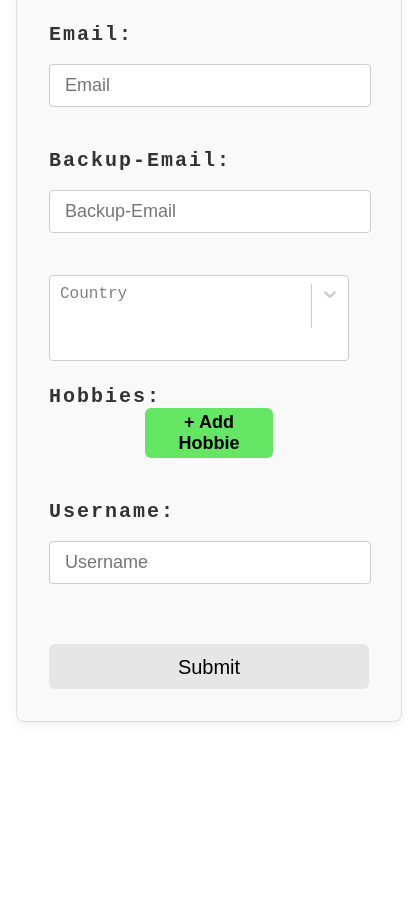
Test: shows name is required
(page scrolled)
Click the button "Submit" at (209, 666), box [49,644,369,689]
(page scrolled)
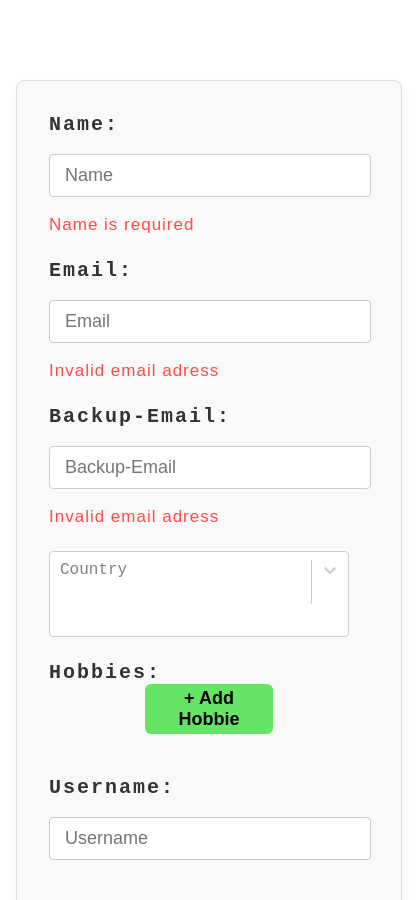
Check: the text "Name is required" is shown, box [49,215,194,234]
